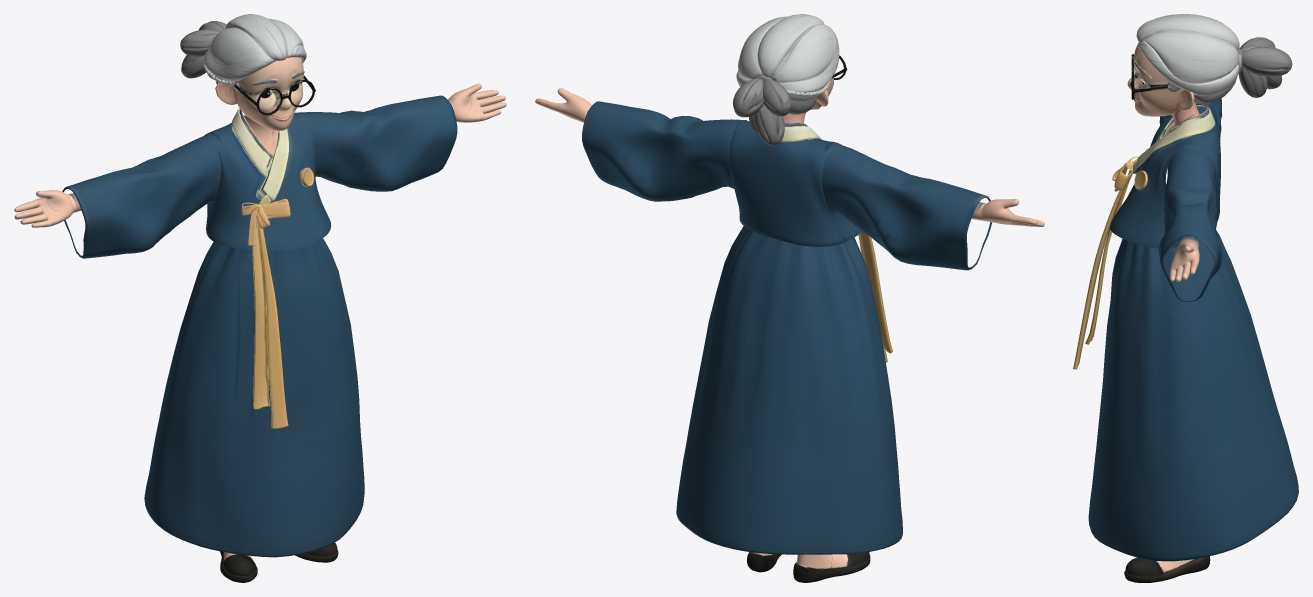
The model's file is toonstudio_grandmother.glb.
The picture shows the model from 3 angles, left to right: view 1: azimuth 30°, elevation 25°; view 2: azimuth 150°, elevation 25°; view 3: azimuth 270°, elevation 25°; orthographic projection. The views are drawn at different scales.
Visible parts, largest first — view 1: tripo_8f0bd16d_69ed_4b75_83f9_1c02d2b0b6f4; view 2: tripo_8f0bd16d_69ed_4b75_83f9_1c02d2b0b6f4; view 3: tripo_8f0bd16d_69ed_4b75_83f9_1c02d2b0b6f4.
Boxes of the visible parts, x1,y1,x2,y2 form: tripo_8f0bd16d_69ed_4b75_83f9_1c02d2b0b6f4: (14, 14, 506, 582); tripo_8f0bd16d_69ed_4b75_83f9_1c02d2b0b6f4: (535, 14, 1044, 582); tripo_8f0bd16d_69ed_4b75_83f9_1c02d2b0b6f4: (1073, 14, 1298, 582).
Bounding box in the file's own units: 1.65 × 1.7 × 0.6453.
1 material, 1 textured.
